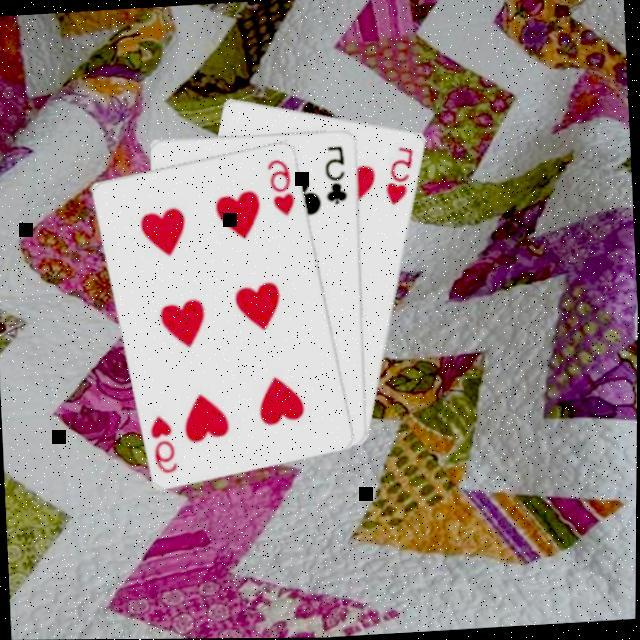5C: (324, 142, 353, 206)
5H: (382, 142, 422, 208)
6H: (266, 153, 302, 220), (149, 410, 184, 476)
